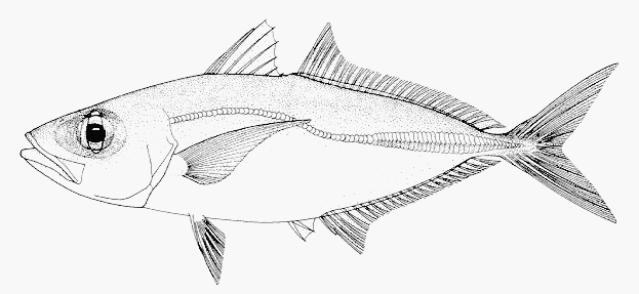Mulut: (17, 97, 79, 193)
Sirip Anal: (325, 150, 505, 258)
Sirip Dada: (172, 113, 322, 196)
Sirip Ekor: (512, 47, 628, 239)
Sirip Perut: (182, 205, 240, 287)
Sirip Punggung: (206, 11, 514, 134)
